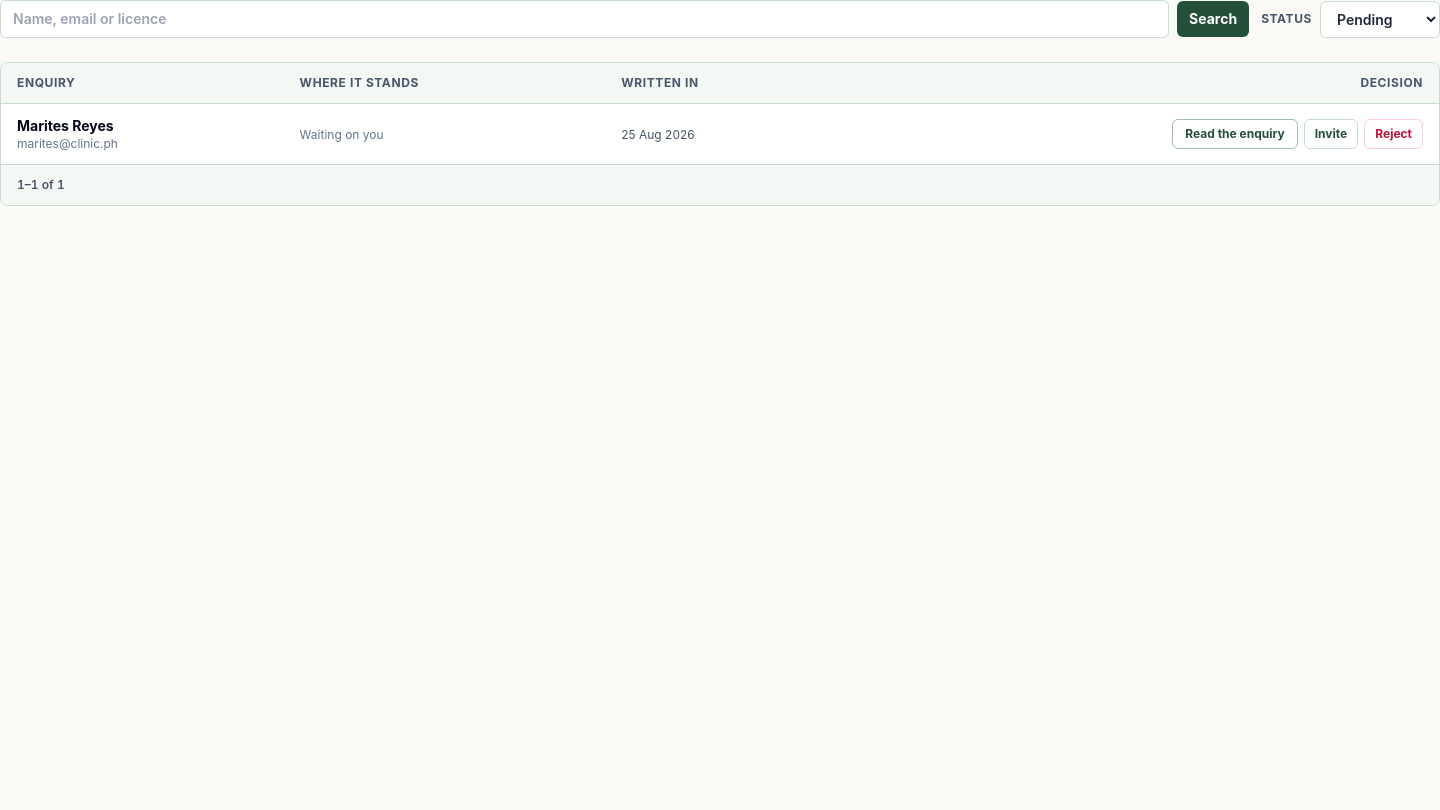
Scenario: the enquiries tab › shows who wrote in, and opens the enquiry itself in a panel
The width and height of the screenshot is (1440, 810).
Expected: the text "Marites Reyes" is shown, [17,117,114,134]
Expected: the text "marites@clinic.ph" is shown, [17,136,118,151]
Step 1. Click the button "Read the enquiry" → (1235, 134), box [1172,119,1298,149]
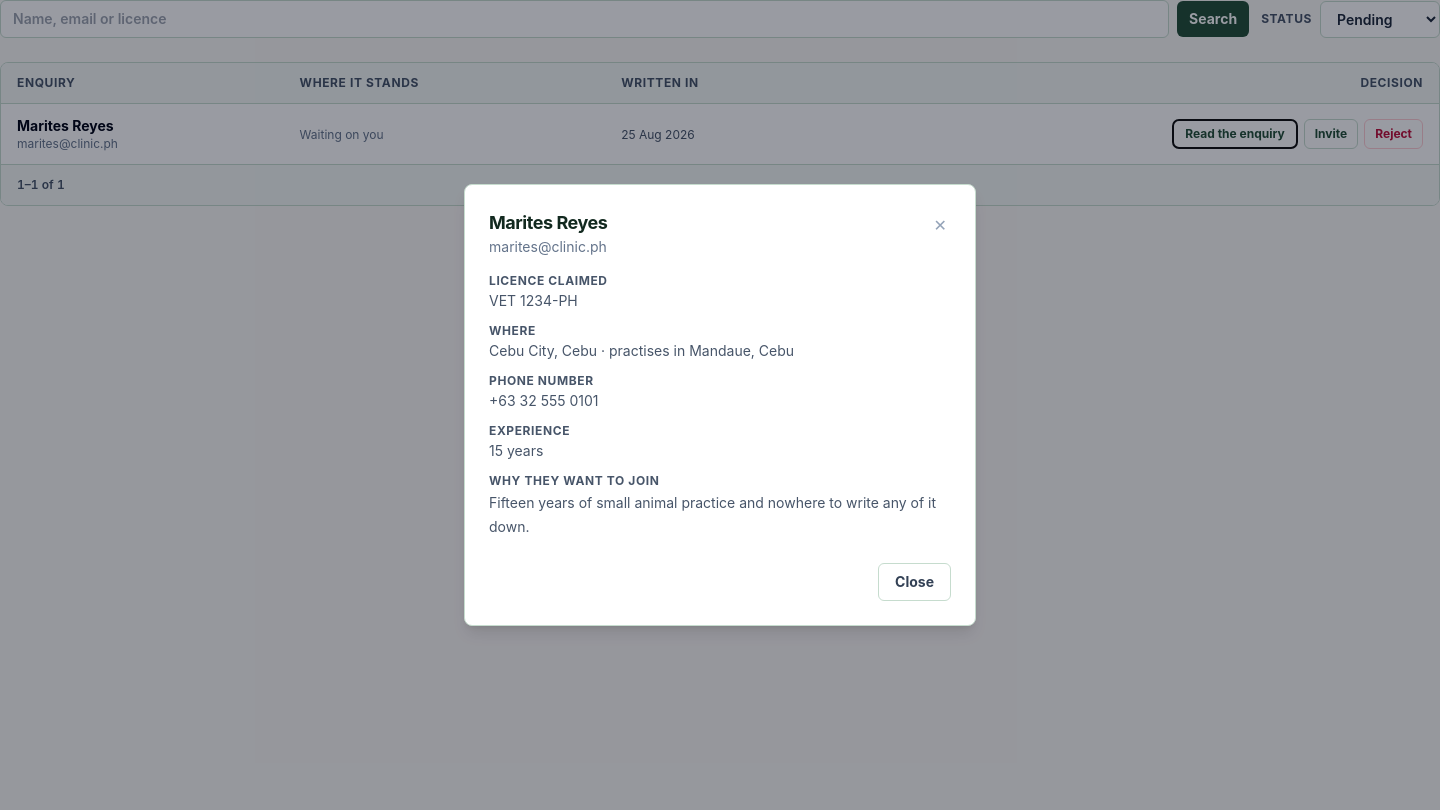
Now the text "Fifteen years of small animal practice" is shown, box [489,494,936,535]
Now the text "VET 1234-PH" is shown, box [489,292,578,309]
